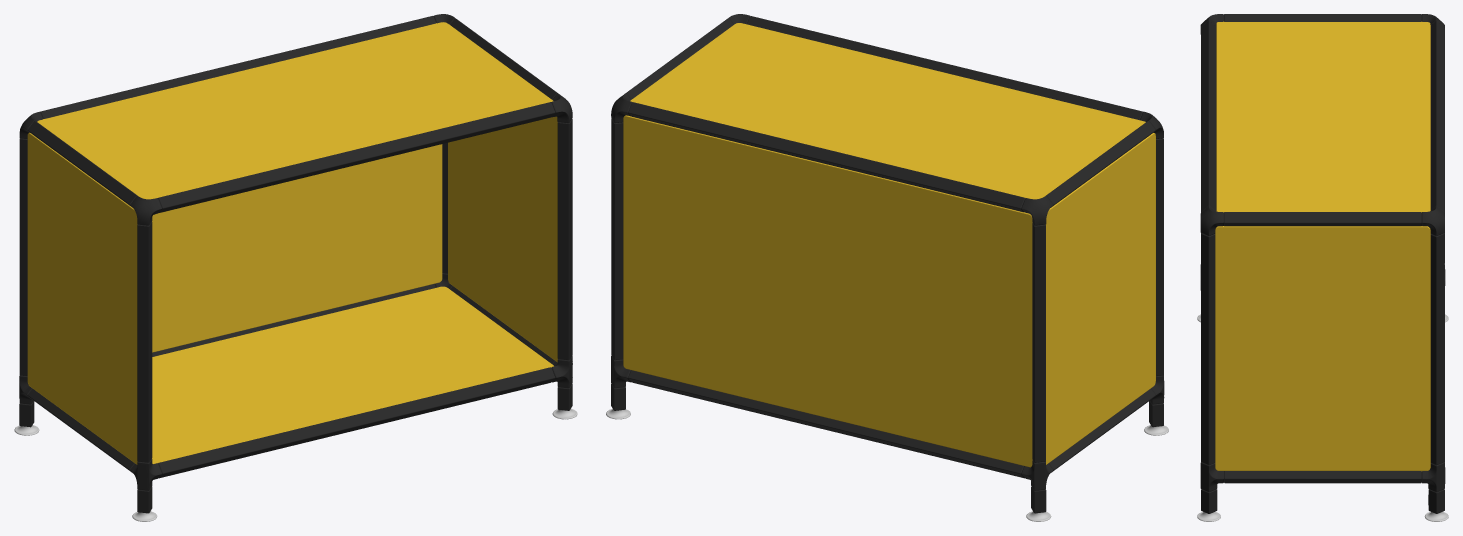
3 views of the same model, side by side, from view 1: azimuth 30°, elevation 25°; view 2: azimuth 150°, elevation 25°; view 3: azimuth 270°, elevation 25° (orthographic). The views are drawn at different scales.
Visible parts, largest first — view 1: 729x329x420; view 2: 729x329x420; view 3: 729x329x420.
Boxes of the visible parts, left/top/right/bottom form: 729x329x420: left=14, top=14, right=577, bottom=521; 729x329x420: left=606, top=14, right=1168, bottom=521; 729x329x420: left=1197, top=14, right=1448, bottom=521.
Bounding box in the file's own units: 0.8189 × 0.5591 × 0.4181.
